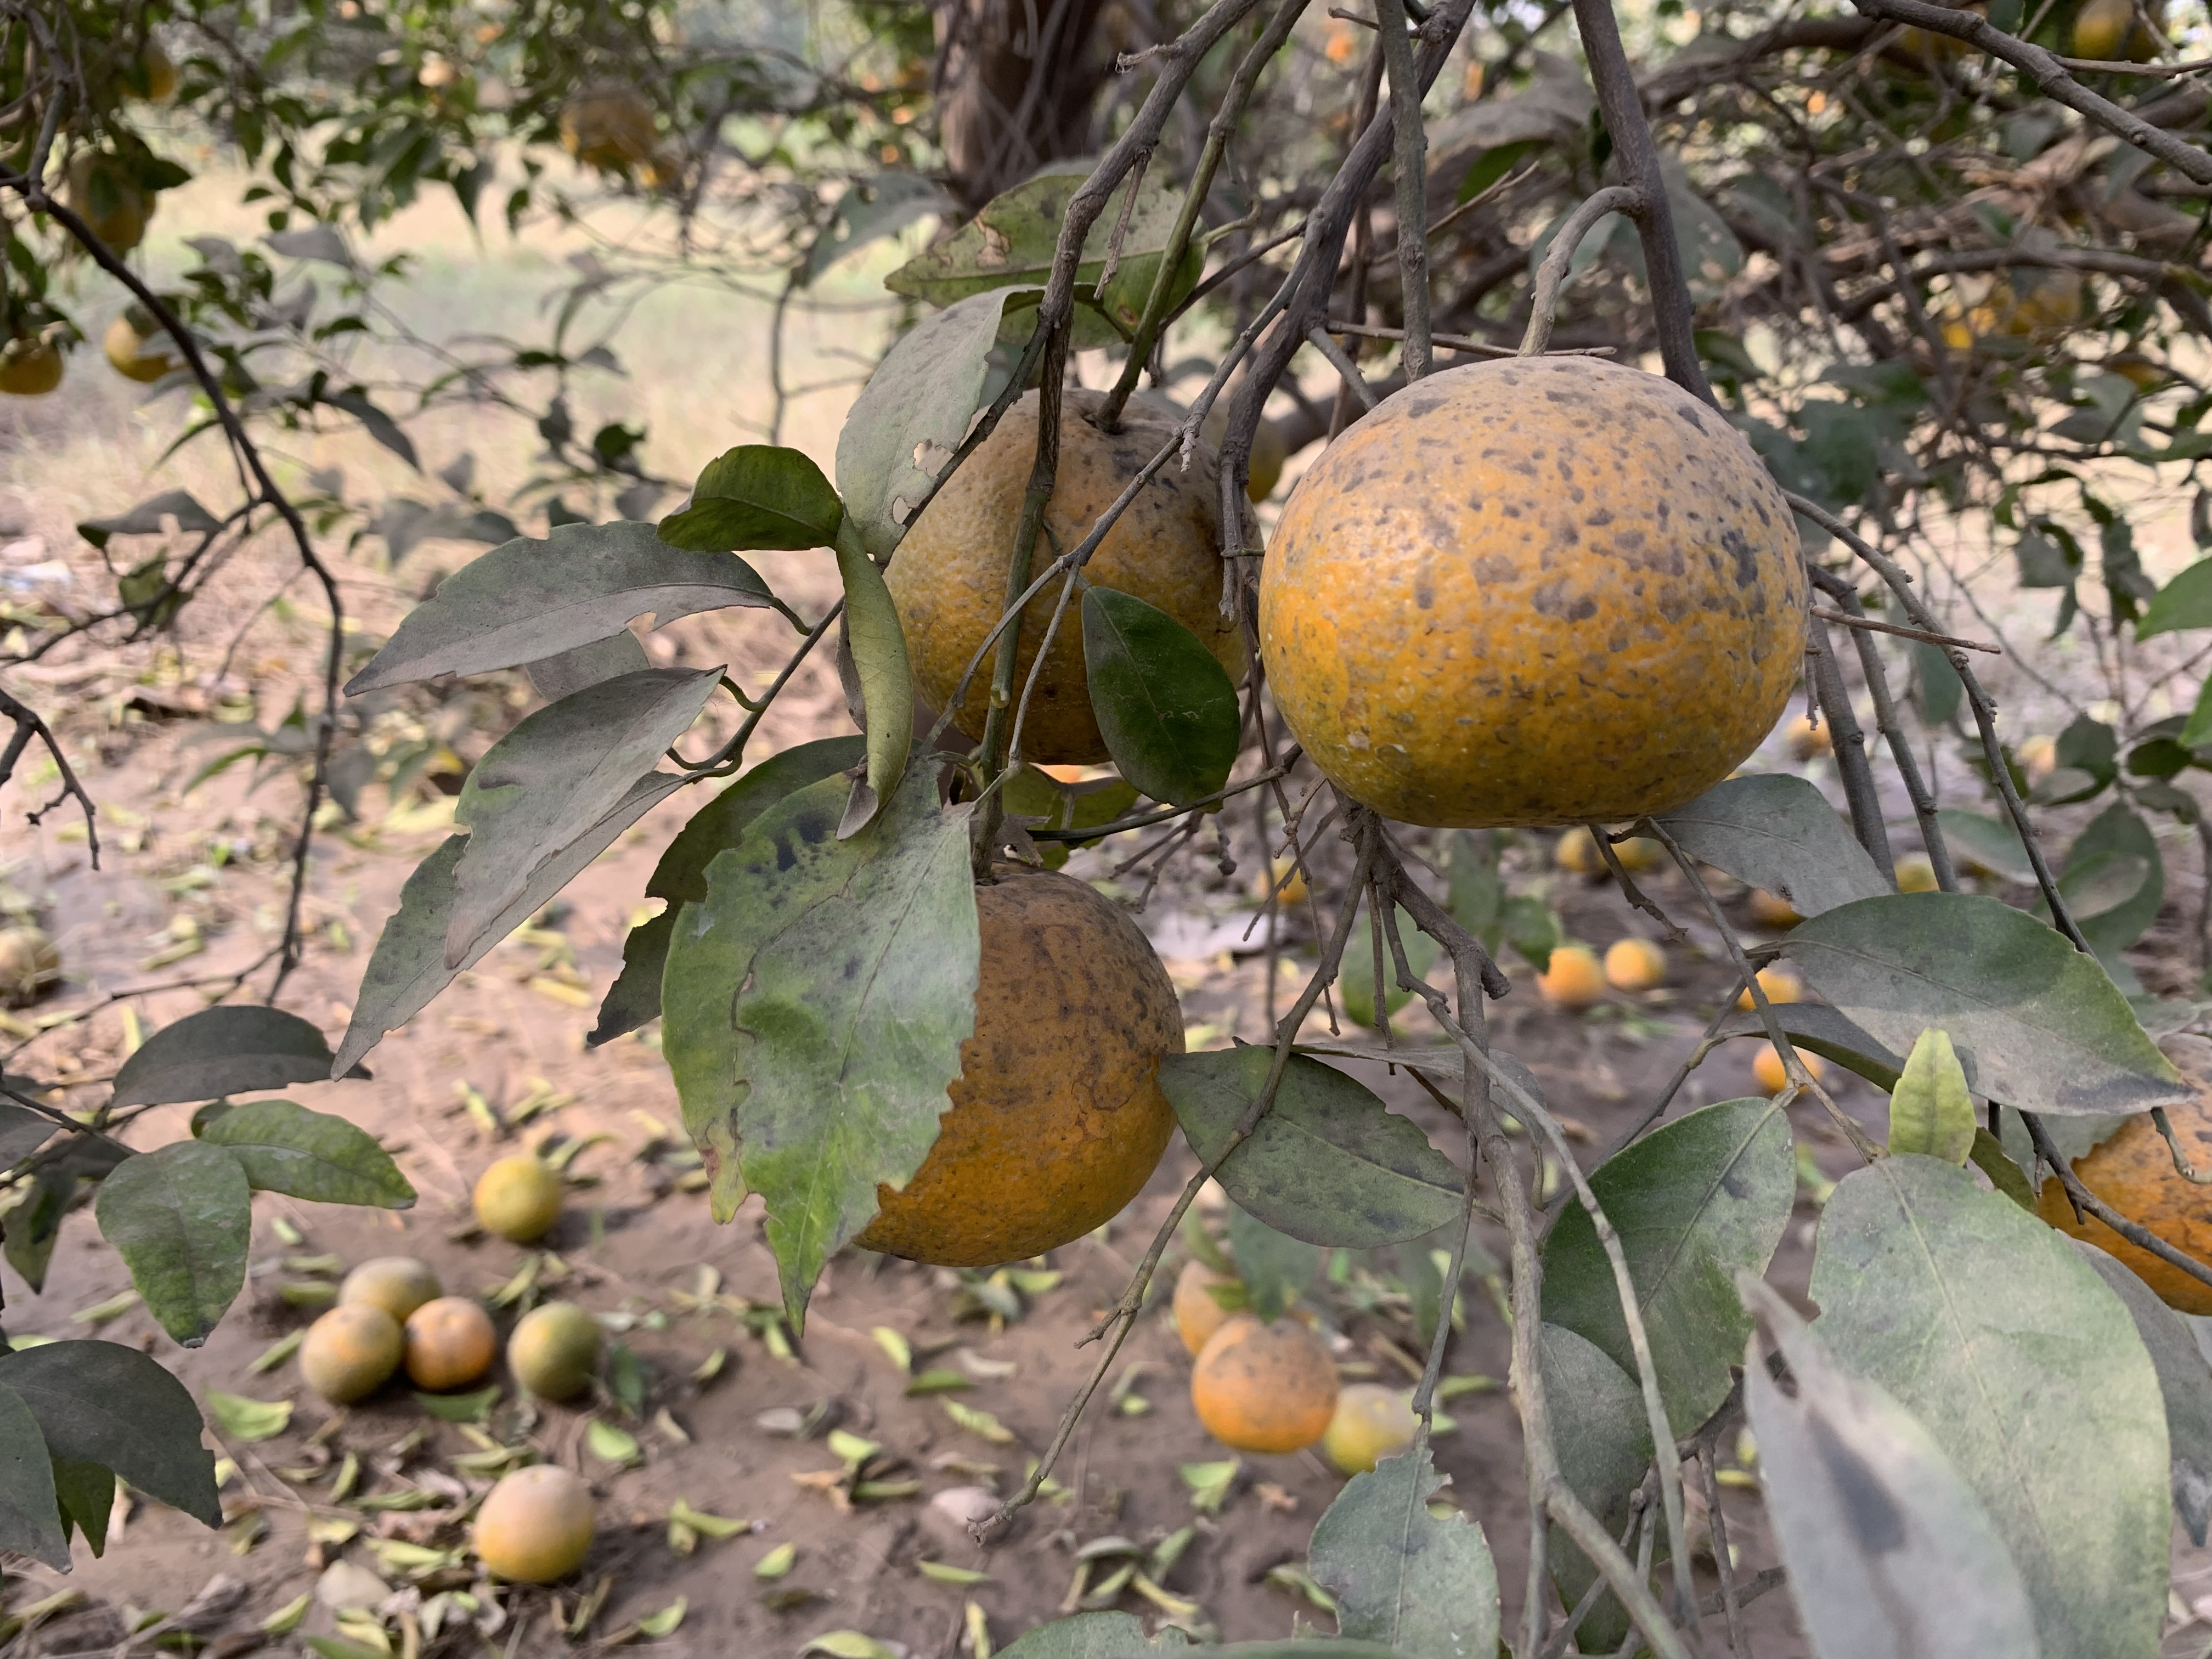orange: (1259, 356, 1808, 826), (883, 390, 1263, 762), (852, 854, 1184, 1262), (2038, 1032, 2212, 1310), (1935, 193, 2081, 359), (1191, 1310, 1336, 1448), (563, 87, 653, 167), (66, 150, 157, 227), (2074, 5, 2175, 66), (105, 312, 171, 383), (0, 338, 66, 394)
